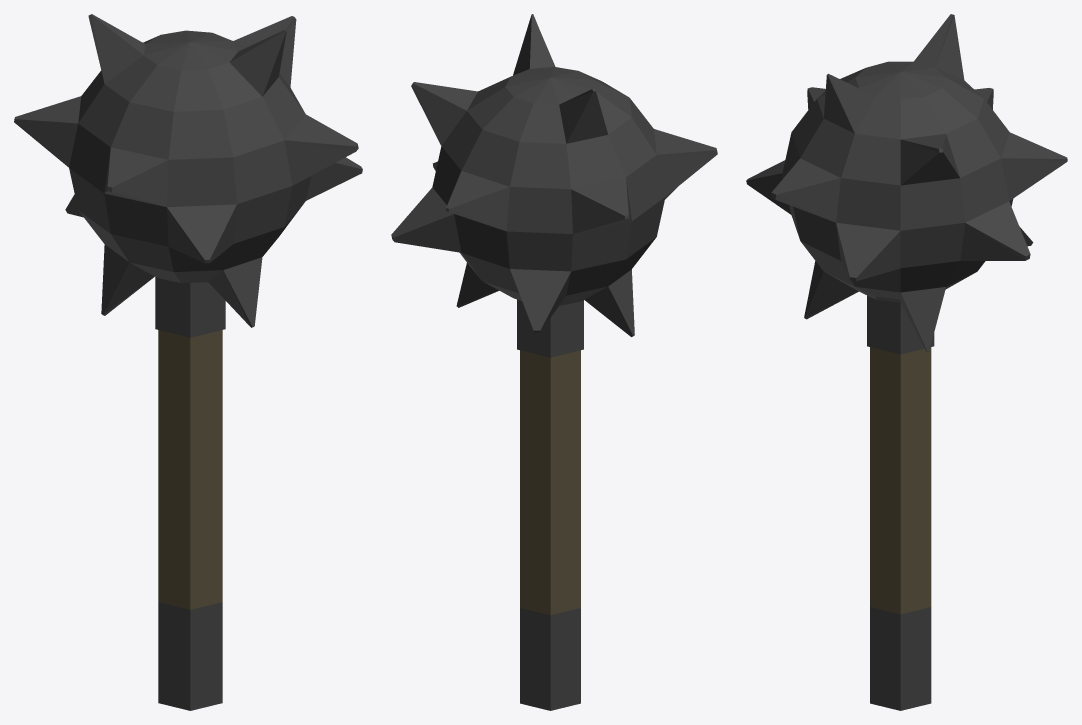
Rendered from W_MorningStar.fbx.
3 renders of one model, left to right at view 1: azimuth 30°, elevation 25°; view 2: azimuth 150°, elevation 25°; view 3: azimuth 270°, elevation 25°, orthographic. The views are drawn at different scales.
Visible parts, largest first — view 1: MorningStar; view 2: MorningStar; view 3: MorningStar.
Part boxes in pixels (x1,y1,x2,y2): MorningStar: (14, 14, 362, 710); MorningStar: (391, 14, 717, 710); MorningStar: (746, 14, 1067, 710).
Bounding box in the file's own units: 0.5179 × 1.21 × 0.544.
